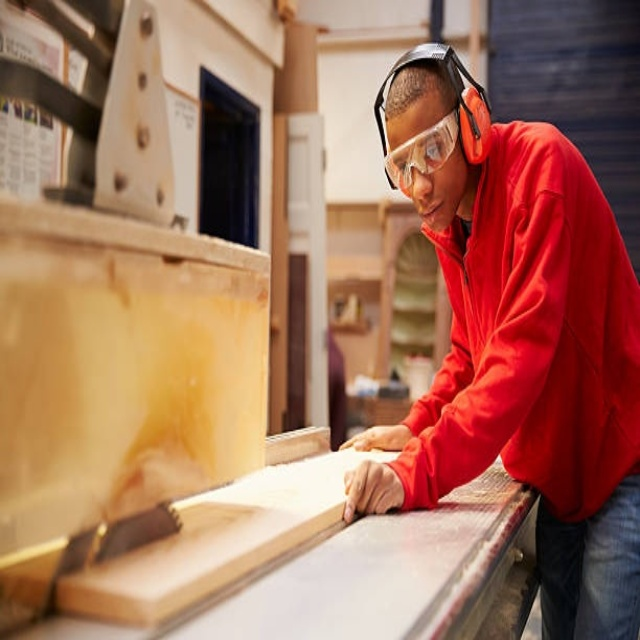Gafas: (384, 109, 462, 191)
Sin_guantes: (339, 456, 405, 520), (335, 416, 411, 452)
Sin_mascara: (416, 191, 448, 232)
